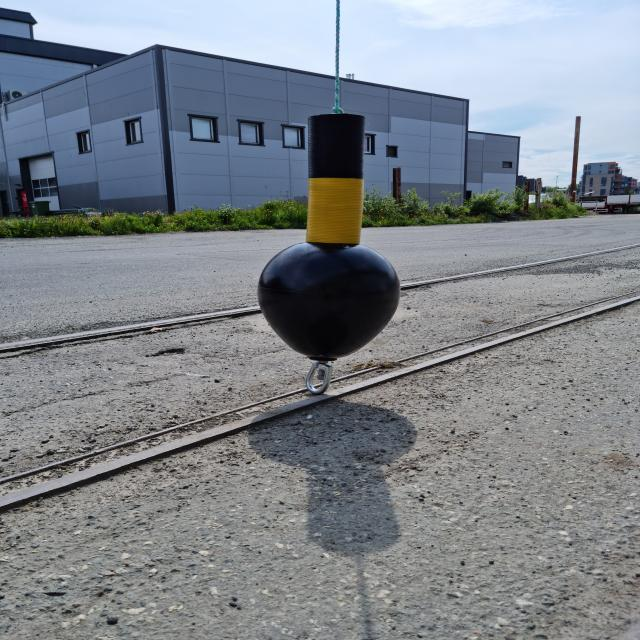east: (256, 114, 401, 357)
